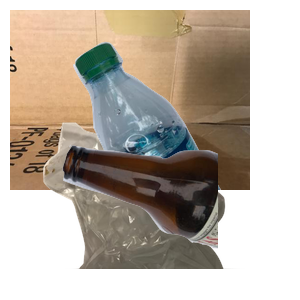cardboard: (10, 10, 250, 190)
glass: (60, 142, 300, 300)
plastic: (71, 39, 300, 219)
trash: (41, 120, 276, 300)
